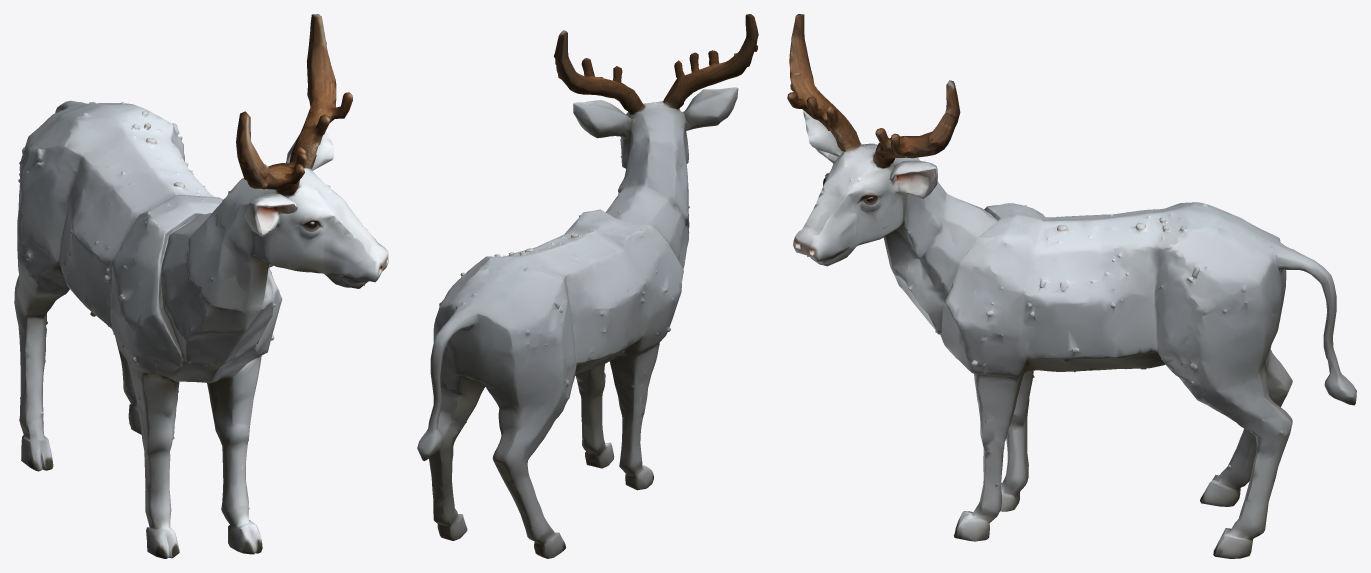
File: gorani.glb
3 renders of one model, left to right at view 1: azimuth 30°, elevation 25°; view 2: azimuth 150°, elevation 25°; view 3: azimuth 270°, elevation 25°, orthographic. The views are drawn at different scales.
Parts seen in each view (by area): view 1: tripo_node_79836383-50c7-4912-8a40-c6c2c1b7f53c; view 2: tripo_node_79836383-50c7-4912-8a40-c6c2c1b7f53c; view 3: tripo_node_79836383-50c7-4912-8a40-c6c2c1b7f53c.
Boxes of the visible parts, bbox=[...] form: tripo_node_79836383-50c7-4912-8a40-c6c2c1b7f53c: bbox=[14, 14, 388, 558]; tripo_node_79836383-50c7-4912-8a40-c6c2c1b7f53c: bbox=[417, 14, 758, 558]; tripo_node_79836383-50c7-4912-8a40-c6c2c1b7f53c: bbox=[787, 14, 1356, 558].
Size of the model in its own units: 0.3282 by 0.9326 by 1.
Materials: 1 (1 with a texture image).
